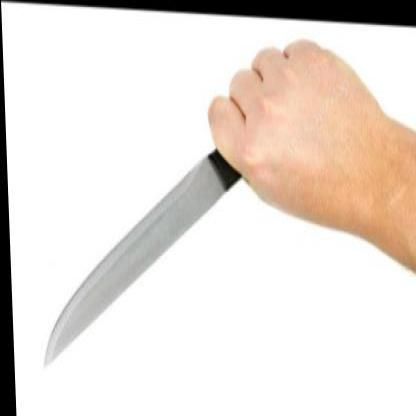knife: (26, 42, 274, 380)
